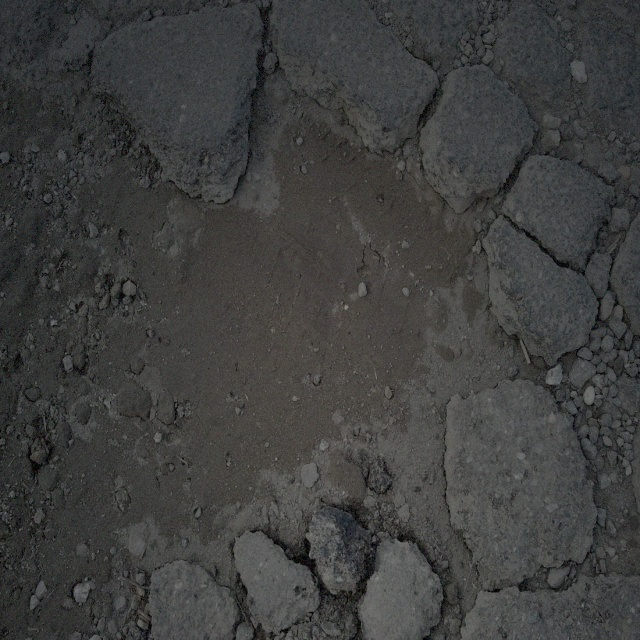pothole: (182, 36, 514, 552)
